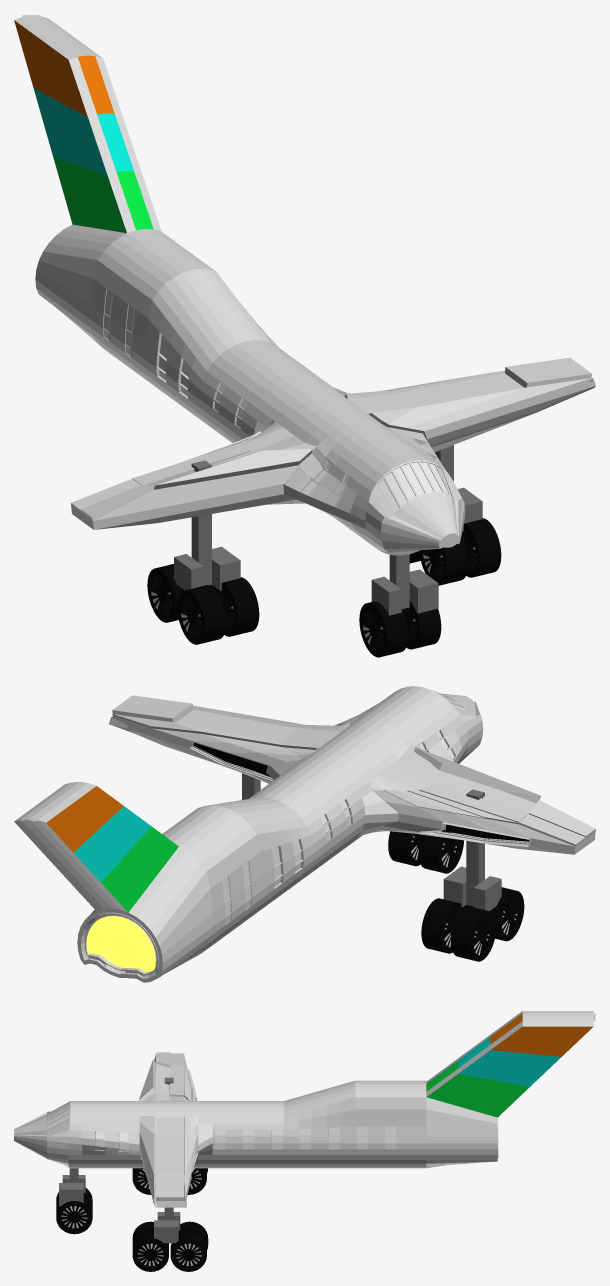
The model's file is plane_1_takeoff.fbx.
The picture shows the model from 3 angles, top to bottom: view 1: azimuth 30°, elevation 25°; view 2: azimuth 150°, elevation 25°; view 3: azimuth 270°, elevation 25°; orthographic projection. The views are drawn at different scales.
Parts seen in each view (by area): view 1: Cylinder, Cube.002, Cube.003, Circle.002, Circle.009, Circle.004, Circle.006, Circle.008, Circle.003, Circle.010, Cube.001; view 2: Cylinder, Cube.002, Circle.003, Circle.005, Circle.009, Circle.002, Circle.010; view 3: Cylinder, Circle.001, Circle.006, Circle.010, Cube.001, Cube.003, Circle.005, Circle.004.
Part boxes in pixels (left/top/right/bottom): Cylinder: left=14, top=14, right=595, bottom=555; Cube.002: left=174, top=460, right=240, bottom=590; Cube.003: left=371, top=554, right=438, bottom=615; Circle.002: left=177, top=585, right=226, bottom=644; Circle.009: left=359, top=601, right=408, bottom=657; Circle.004: left=212, top=577, right=259, bottom=636; Circle.006: left=461, top=518, right=501, bottom=577; Circle.008: left=419, top=537, right=468, bottom=585; Circle.003: left=147, top=564, right=184, bottom=622; Circle.010: left=402, top=601, right=441, bottom=649; Cube.001: left=435, top=445, right=482, bottom=531; Cylinder: left=14, top=686, right=595, bottom=982; Cube.002: left=443, top=789, right=501, bottom=911; Circle.003: left=451, top=906, right=496, bottom=961; Circle.005: left=421, top=898, right=464, bottom=953; Circle.009: left=418, top=834, right=463, bottom=873; Circle.002: left=490, top=887, right=524, bottom=941; Circle.010: left=388, top=831, right=421, bottom=866; Cylinder: left=14, top=1011, right=595, bottom=1207; Circle.001: left=170, top=1232, right=206, bottom=1271; Circle.006: left=132, top=1232, right=168, bottom=1271; Circle.010: left=56, top=1197, right=92, bottom=1234; Cube.001: left=154, top=1207, right=180, bottom=1243; Cube.003: left=59, top=1168, right=85, bottom=1206; Circle.005: left=187, top=1168, right=206, bottom=1194; Circle.004: left=132, top=1168, right=151, bottom=1194.
Bounding box in the file's own units: 332 × 212 × 510.
